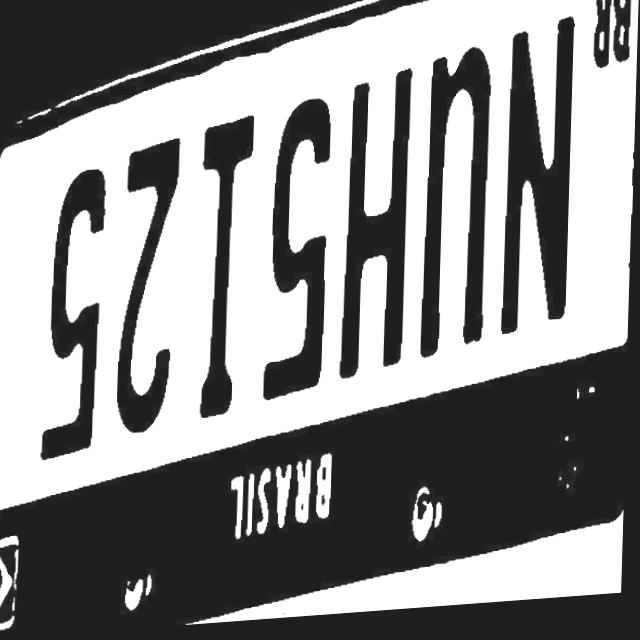2: (103, 151, 189, 463)
5: (255, 116, 337, 429), (33, 185, 107, 481)
h: (335, 89, 420, 404)
i: (185, 131, 260, 445)
n: (494, 23, 581, 359)
u: (414, 56, 500, 386)
